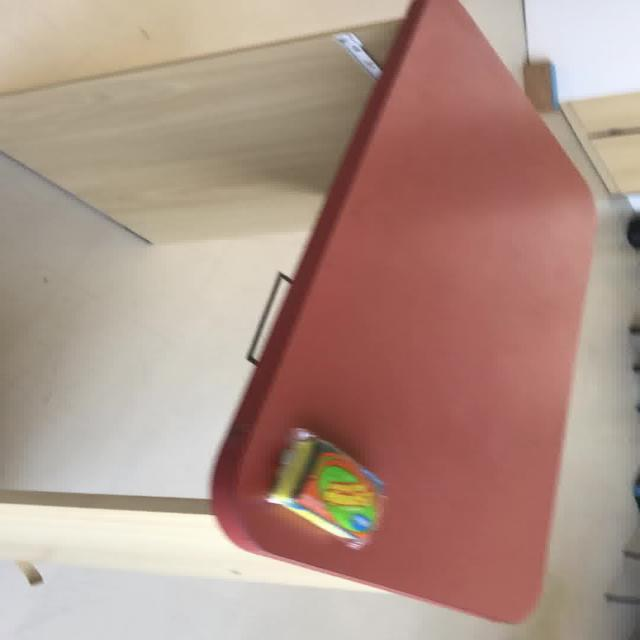sponge: (263, 427, 386, 550)
